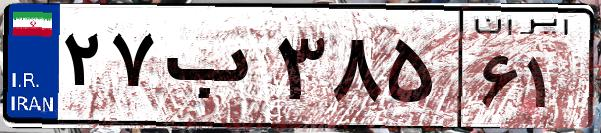1: (525, 38, 570, 115)
2: (57, 26, 110, 100)
3: (270, 28, 330, 110)
5: (385, 28, 445, 110)
6: (475, 38, 525, 113)
7: (110, 28, 158, 98)
8: (330, 28, 385, 110)
ب: (158, 20, 270, 120)
